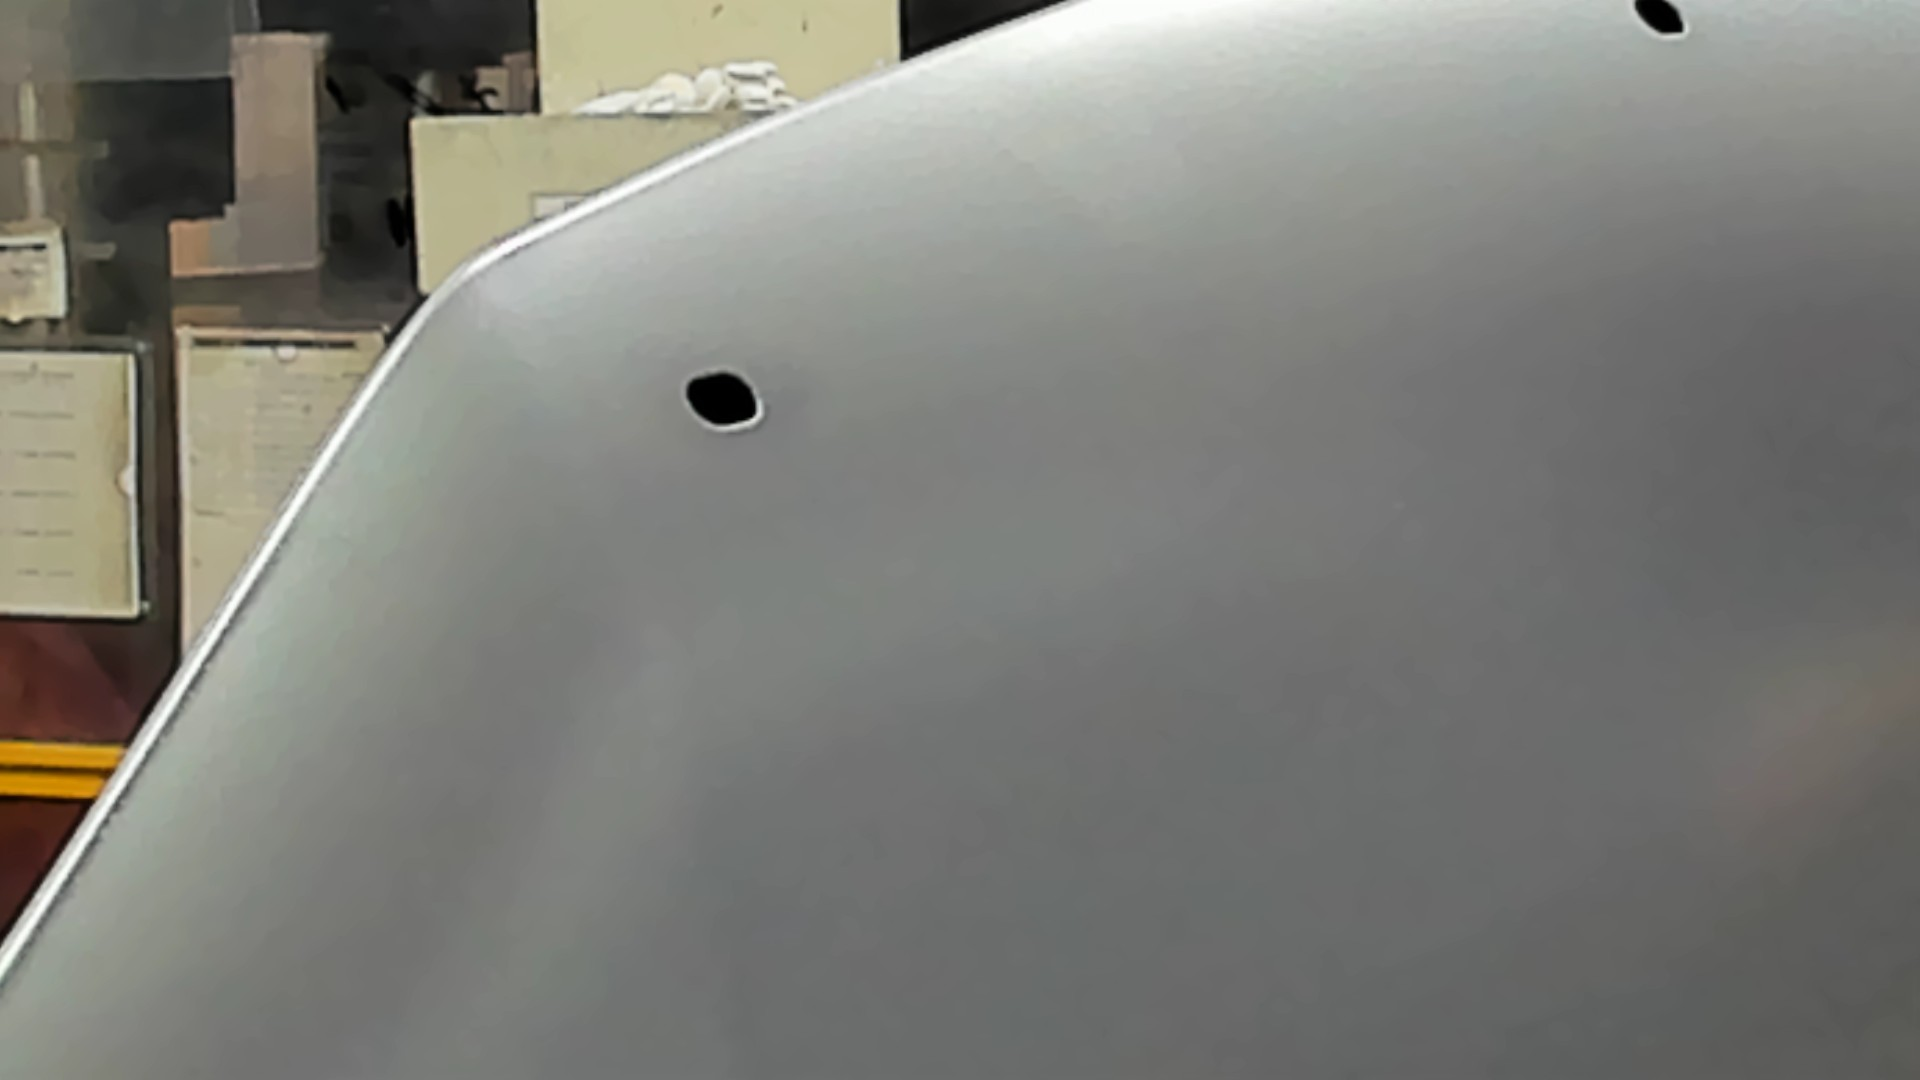amorfo: (673, 361, 773, 438), (1625, 1, 1697, 44)
capo: (866, 107, 1920, 1080)
